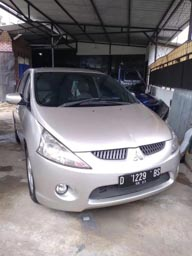plat: (119, 168, 158, 191)
